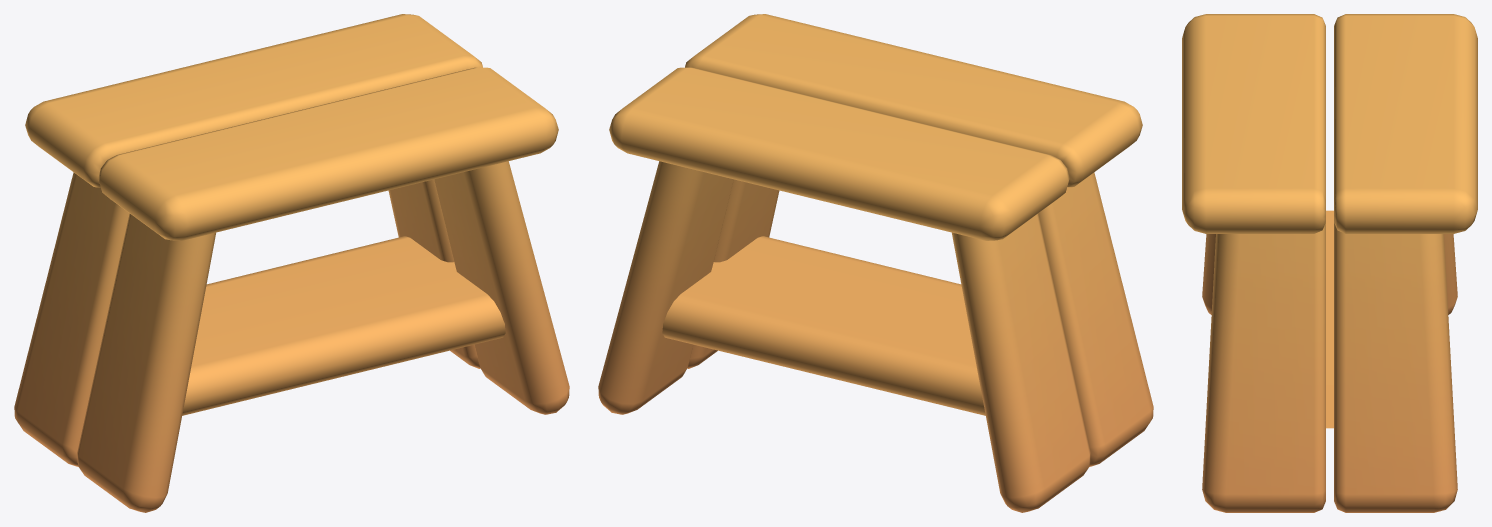
The model's file is Bath_Shelving_06.glb.
The picture shows the model from 3 angles, left to right: view 1: azimuth 30°, elevation 25°; view 2: azimuth 150°, elevation 25°; view 3: azimuth 270°, elevation 25°; orthographic projection.
Parts seen in each view (by area): view 1: Bath_Shelving_06; view 2: Bath_Shelving_06; view 3: Bath_Shelving_06.
Boxes of the visible parts, left/top/right/bottom form: Bath_Shelving_06: left=14, top=14, right=569, bottom=512; Bath_Shelving_06: left=598, top=14, right=1153, bottom=512; Bath_Shelving_06: left=1182, top=14, right=1477, bottom=512.
Size of the model in its own units: 0.6293 by 0.4307 by 0.37.
Materials: 1 (1 with a texture image).
